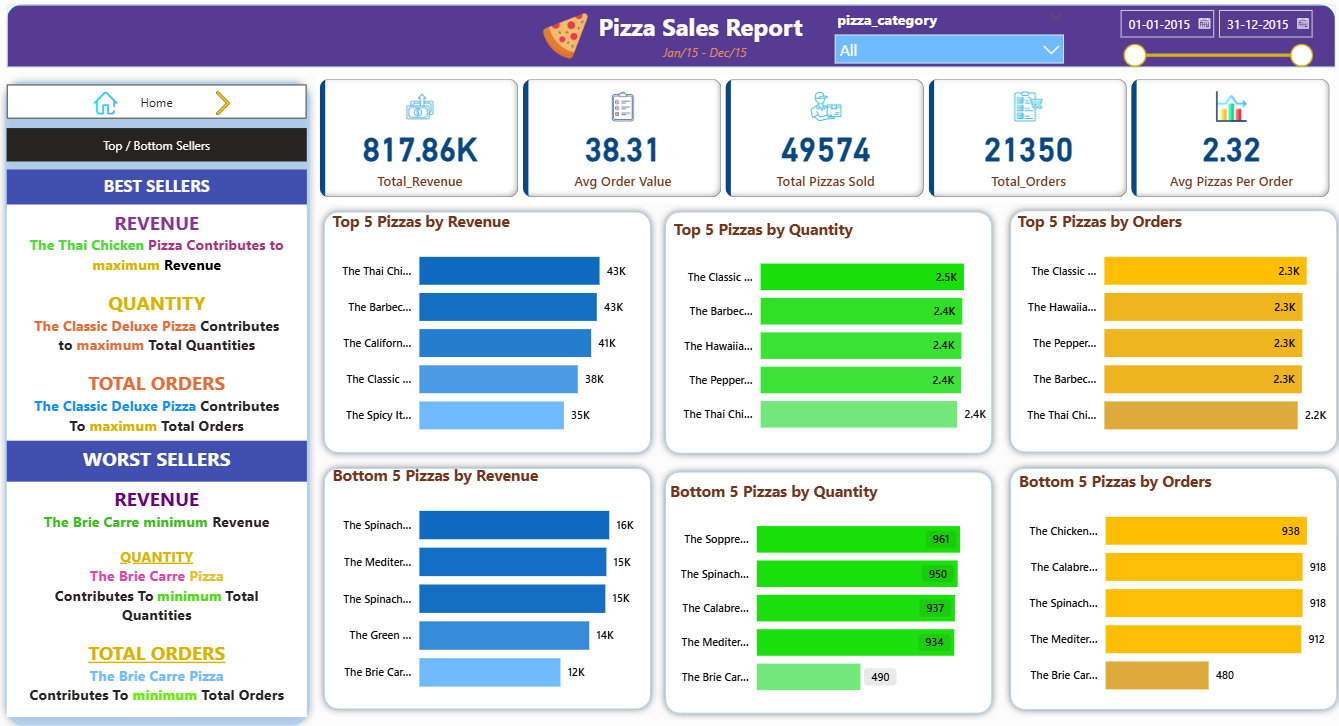

This screenshot's page, from the dashboard's own definition file:
{"tool":"powerbi","page":{"name":"Top / Bottom Sellers","canvas":[1500,820],"ordinal":1},"visuals":[{"type":"shape","box":[10,8.6,1480,70],"z":0},{"type":"textbox","box":[620,10,325.7,65.7],"z":1000},{"type":"cardVisual","fields":{"Data":["pizza_sales.Total_Revenue","pizza_sales.Avg Order Value","pizza_sales.Total Pizzas Sold","pizza_sales.Total_Orders","pizza_sales.Avg Pizzas Per Order"]},"box":[354.3,85.7,1135.7,142.9],"z":2000},{"type":"textbox","box":[725.7,47.1,124.3,28.6],"z":3000},{"type":"image","box":[577.1,12.9,111.4,61.4],"z":4000},{"type":"shape","box":[355.1,231.2,380.2,285],"z":5000},{"type":"shape","box":[0,86.3,355.1,732.5],"z":15000},{"type":"textbox","box":[9.7,192.2,334.2,46],"z":16000},{"type":"textbox","box":[9.7,231.2,334.2,263.2],"z":17000},{"type":"textbox","box":[9.7,539,334.2,263.2],"z":18000},{"type":"textbox","box":[9.7,494.4,334.2,46],"z":19000},{"type":"slicer","fields":{"Values":["pizza_sales.pizza_category"]},"box":[921.9,8.4,275.7,69.6],"z":20000},{"type":"slicer","fields":{"Values":["pizza_sales.order_date"]},"box":[1238.1,4.2,235.4,76.6],"z":21000},{"type":"shape","box":[735.3,231.2,380.2,285.5],"z":21001},{"type":"shape","box":[1119.7,229.8,380.2,285.5],"z":21002},{"type":"shape","box":[355.1,516.7,380.2,285],"z":21003},{"type":"shape","box":[1119.7,516.7,380.2,285.5],"z":21004},{"type":"shape","box":[735.3,520.9,380.2,285.5],"z":21005},{"type":"barChart","title":"Top 5 Pizzas by Revenue","fields":{"Category":["pizza_sales.pizza_name"],"Y":["pizza_sales.Total_Revenue"]},"box":[367.7,238.1,357.9,266],"z":21006},{"type":"barChart","title":"Bottom 5 Pizzas by Revenue","fields":{"Category":["pizza_sales.pizza_name"],"Y":["pizza_sales.Total_Revenue"]},"box":[367.7,520.9,357.9,270.2],"z":21007},{"type":"barChart","title":"Top 5 Pizzas by Quantity","fields":{"Category":["pizza_sales.pizza_name"],"Y":["pizza_sales.Total Pizzas Sold"]},"box":[747.9,246.5,357.9,254.9],"z":21008},{"type":"barChart","title":"Bottom 5 Pizzas by Quantity","fields":{"Category":["pizza_sales.pizza_name"],"Y":["pizza_sales.Total Pizzas Sold"]},"box":[743.7,539,357.9,254.9],"z":21009},{"type":"barChart","title":"Top 5 Pizzas by Orders","fields":{"Category":["pizza_sales.pizza_name"],"Y":["pizza_sales.Total_Orders"]},"box":[1130.8,238.1,357.9,266],"z":21010},{"type":"barChart","title":"Bottom 5 Pizzas by Orders","fields":{"Category":["pizza_sales.pizza_name"],"Y":["pizza_sales.Total_Orders"]},"box":[1132.2,527.8,357.9,266],"z":21011},{"type":"pageNavigator","box":[9.7,146.2,334.2,37.6],"z":21012},{"type":"pageNavigator","box":[9.7,97.5,334.2,39],"z":21013},{"type":"image","box":[232.6,100.3,36.2,36.2],"z":21014},{"type":"image","box":[100.3,100.3,39,36.2],"z":21015}]}

Visuals, with their boxes in screenshot pixels (x1, y1, x2, y2), scaled from the page's 1500x820 canvas onto the 1339x726 screenshot:
shape: detection(9, 8, 1330, 70)
textbox: detection(553, 9, 844, 67)
cardVisual - pizza_sales.Total_Revenue x pizza_sales.Avg Order Value: detection(316, 76, 1330, 202)
textbox: detection(648, 42, 759, 67)
image: detection(515, 11, 615, 66)
shape: detection(317, 205, 656, 457)
shape: detection(0, 76, 317, 725)
textbox: detection(9, 170, 307, 211)
textbox: detection(9, 205, 307, 438)
textbox: detection(9, 477, 307, 710)
textbox: detection(9, 438, 307, 478)
slicer - pizza_sales.pizza_category: detection(823, 7, 1069, 69)
slicer - pizza_sales.order_date: detection(1105, 4, 1315, 72)
shape: detection(656, 205, 996, 457)
shape: detection(1000, 203, 1338, 456)
shape: detection(317, 457, 656, 710)
shape: detection(1000, 457, 1338, 710)
shape: detection(656, 461, 996, 714)
"Top 5 Pizzas by Revenue" barChart: detection(328, 211, 648, 446)
"Bottom 5 Pizzas by Revenue" barChart: detection(328, 461, 648, 700)
"Top 5 Pizzas by Quantity" barChart: detection(668, 218, 987, 444)
"Bottom 5 Pizzas by Quantity" barChart: detection(664, 477, 983, 703)
"Top 5 Pizzas by Orders" barChart: detection(1009, 211, 1329, 446)
"Bottom 5 Pizzas by Orders" barChart: detection(1011, 467, 1330, 703)
pageNavigator: detection(9, 129, 307, 163)
pageNavigator: detection(9, 86, 307, 121)
image: detection(208, 89, 240, 121)
image: detection(90, 89, 124, 121)
